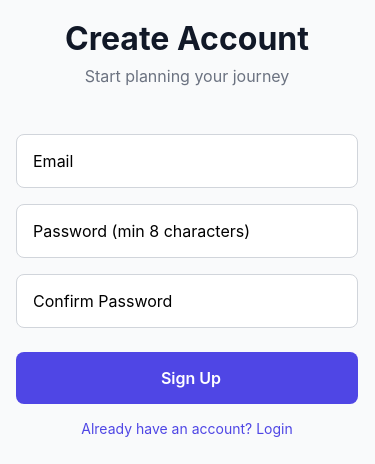
Test: RegisterScreen › Registration Flow › should show loading state during registration
Type "test@example.com" into the field with placeholder "Email" at coordinates (187, 161), box [16,134,358,188]
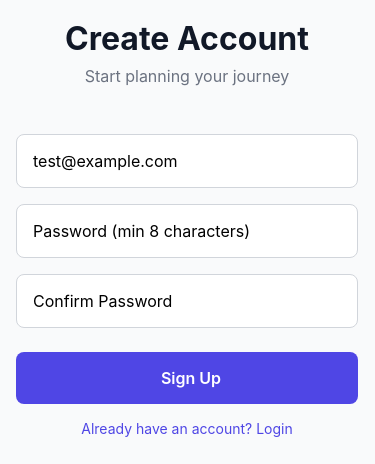
Type "password123" into the password field with placeholder "Password (min 8 characters)" at coordinates (187, 231), box [16,204,358,258]
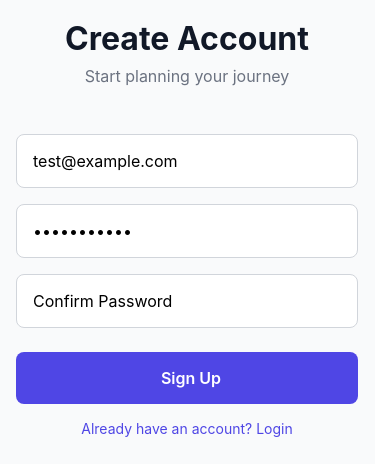
Type "password123" into the password field with placeholder "Confirm Password" at coordinates (187, 301), box [16,274,358,328]
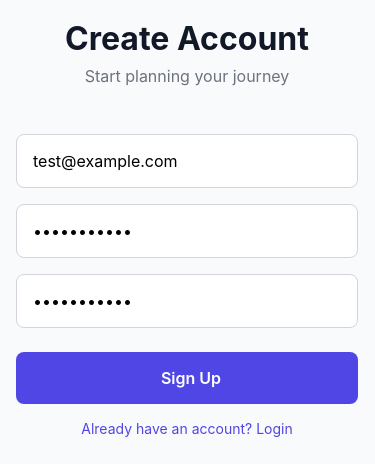
Click the text "Sign Up" at coordinates (191, 378), box [161,368,221,388]
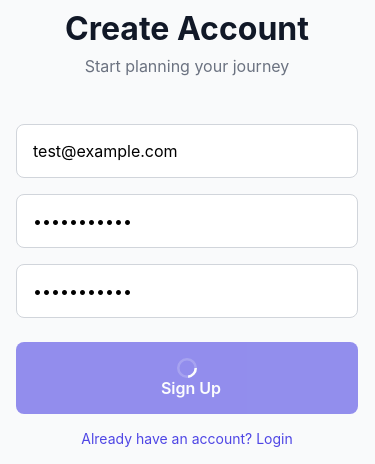
Expected: the progress indicator with test id "loading-indicator" is shown, [177,358,197,378]
